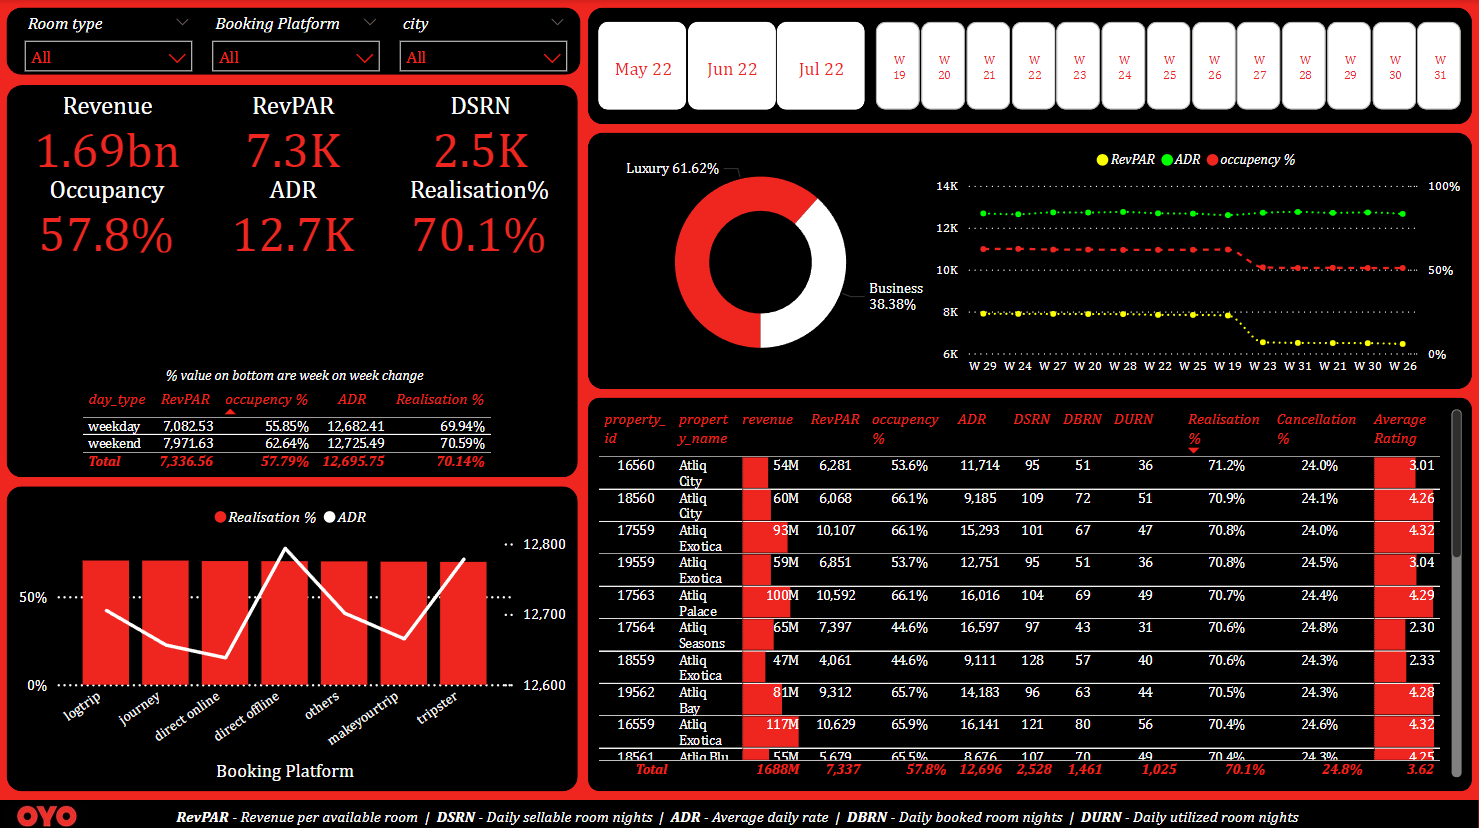

Layout of this report page (visuals, bound fields, positions):
{"tool":"powerbi","page":{"name":"Page 1","canvas":[1280,720],"ordinal":0},"visuals":[{"type":"shape","box":[7,88.4,494.2,324.4],"z":0},{"type":"shape","box":[7,420.9,494.2,264],"z":1000},{"type":"shape","box":[509.3,344.2,765.1,340.7],"z":2000},{"type":"shape","box":[7,7,496.5,70.9],"z":3000},{"type":"shape","box":[509.3,115.1,765.1,222.1],"z":4000},{"type":"shape","box":[509.3,7,765.1,101.2],"z":5000},{"type":"tableEx","fields":{"Values":["dim_hotels.property_id","dim_hotels.property_name","measure_table.revenue","measure_table.RevPAR","measure_table.occupency %","measure_table.ADR","measure_table.DSRN","measure_table.DBRN","measure_table.DURN","measure_table.Realisation %","measure_table.Cancellation %","measure_table.Average Rating"]},"box":[512.8,348.8,758.1,327.9],"z":6000},{"type":"slicer","fields":{"Values":["dim_rooms.room_class"]},"box":[11.6,7,165.1,57],"z":7000},{"type":"advancedSlicerVisual","fields":{"Values":["dim_date.mmm yy.Variation.Date Hierarchy.Year"]},"box":[514,14,240,86],"z":8000},{"type":"advancedSlicerVisual","fields":{"Values":["dim_date.week no"]},"box":[753.5,14,516.3,86],"z":9000},{"type":"card","title":"Revenue","fields":{"Values":["measure_table.revenue"]},"box":[11.6,104.5,161.6,72.1],"z":10000},{"type":"donutChart","title":"% Revenue by category","fields":{"Category":["dim_hotels.category"],"Y":["measure_table.revenue"]},"box":[514,119.8,290.7,214],"z":11000},{"type":"lineChart","fields":{"Y":["measure_table.RevPAR","measure_table.ADR"],"Category":["dim_date.week no"],"Y2":["measure_table.occupency %"]},"box":[805.8,118.6,464,214],"z":12000},{"type":"lineStackedColumnComboChart","fields":{"Y":["measure_table.Realisation %"],"Y2":["measure_table.ADR"],"Category":["fact_bookings.booking_platform"]},"box":[11.6,426.7,483.7,253.5],"z":13000},{"type":"slicer","fields":{"Values":["dim_hotels.city"]},"box":[336,7,165.1,57],"z":14000},{"type":"slicer","fields":{"Values":["fact_bookings.booking_platform"]},"box":[174.4,7,165.1,57],"z":15000},{"type":"card","title":"RevPAR","fields":{"Values":["measure_table.RevPAR"]},"box":[173.3,104.5,160.5,72.1],"z":16000},{"type":"card","title":"DSRN","fields":{"Values":["measure_table.DSRN"]},"box":[334.9,104.5,160.5,72.1],"z":17000},{"type":"card","title":"Occupancy","fields":{"Values":["measure_table.occupency %"]},"box":[14,196.3,160.5,72.1],"z":18000},{"type":"card","title":"ADR","fields":{"Values":["measure_table.ADR"]},"box":[172.1,196.3,160.5,72.1],"z":19000},{"type":"card","title":"Realisation%","fields":{"Values":["measure_table.Realisation %"]},"box":[332.6,196.3,160.5,72.1],"z":20000},{"type":"tableEx","title":"% value on bottom are week on week change","fields":{"Values":["dim_date.day_type","measure_table.RevPAR","measure_table.occupency %","measure_table.ADR","measure_table.Realisation %"]},"box":[25.6,294.2,455.8,110.5],"z":21000},{"type":"shape","box":[0,692.2,1279.8,28],"z":22000},{"type":"textbox","box":[12.8,691.9,1258.1,27.9],"z":23000},{"type":"image","box":[0,692,81.1,28.1],"z":24000}]}

Visuals, with their boxes in screenshot pixels (x1, y1, x2, y2), scaled from the page's 1280x720 canvas onto the 1479x828 screenshot:
shape: [x1=8, y1=102, x2=579, y2=475]
shape: [x1=8, y1=484, x2=579, y2=788]
shape: [x1=588, y1=396, x2=1473, y2=788]
shape: [x1=8, y1=8, x2=582, y2=90]
shape: [x1=588, y1=132, x2=1473, y2=388]
shape: [x1=588, y1=8, x2=1473, y2=124]
tableEx - dim_hotels.property_id x dim_hotels.property_name: [x1=593, y1=401, x2=1468, y2=778]
slicer - dim_rooms.room_class: [x1=13, y1=8, x2=204, y2=74]
advancedSlicerVisual - dim_date.mmm yy.Variation.Date Hierarchy.Year: [x1=594, y1=16, x2=871, y2=115]
advancedSlicerVisual - dim_date.week no: [x1=871, y1=16, x2=1467, y2=115]
"Revenue" card: [x1=13, y1=120, x2=200, y2=203]
"% Revenue by category" donutChart: [x1=594, y1=138, x2=930, y2=384]
lineChart - measure_table.RevPAR x measure_table.ADR: [x1=931, y1=136, x2=1467, y2=382]
lineStackedColumnComboChart - measure_table.Realisation % x measure_table.ADR: [x1=13, y1=491, x2=572, y2=782]
slicer - dim_hotels.city: [x1=388, y1=8, x2=579, y2=74]
slicer - fact_bookings.booking_platform: [x1=202, y1=8, x2=392, y2=74]
"RevPAR" card: [x1=200, y1=120, x2=386, y2=203]
"DSRN" card: [x1=387, y1=120, x2=572, y2=203]
"Occupancy" card: [x1=16, y1=226, x2=202, y2=309]
"ADR" card: [x1=199, y1=226, x2=384, y2=309]
"Realisation%" card: [x1=384, y1=226, x2=570, y2=309]
"% value on bottom are week on week change" tableEx: [x1=30, y1=338, x2=556, y2=465]
shape: [x1=0, y1=796, x2=1478, y2=827]
textbox: [x1=15, y1=796, x2=1468, y2=827]
image: [x1=0, y1=796, x2=94, y2=827]
